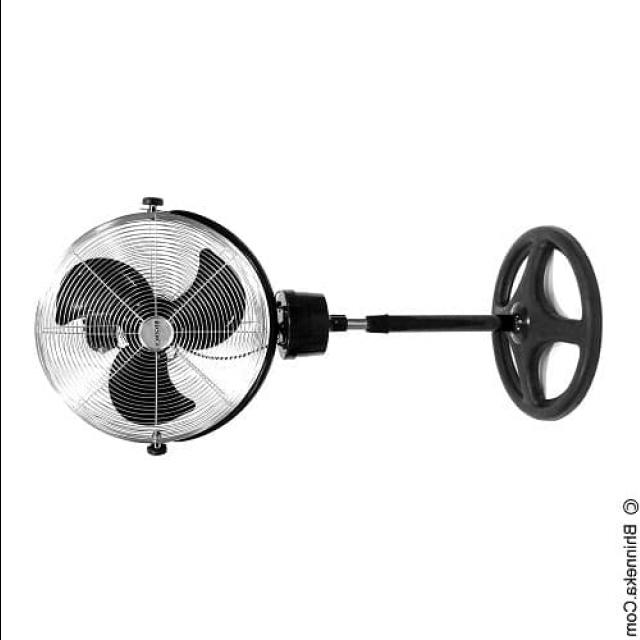fan: (30, 189, 608, 461)
